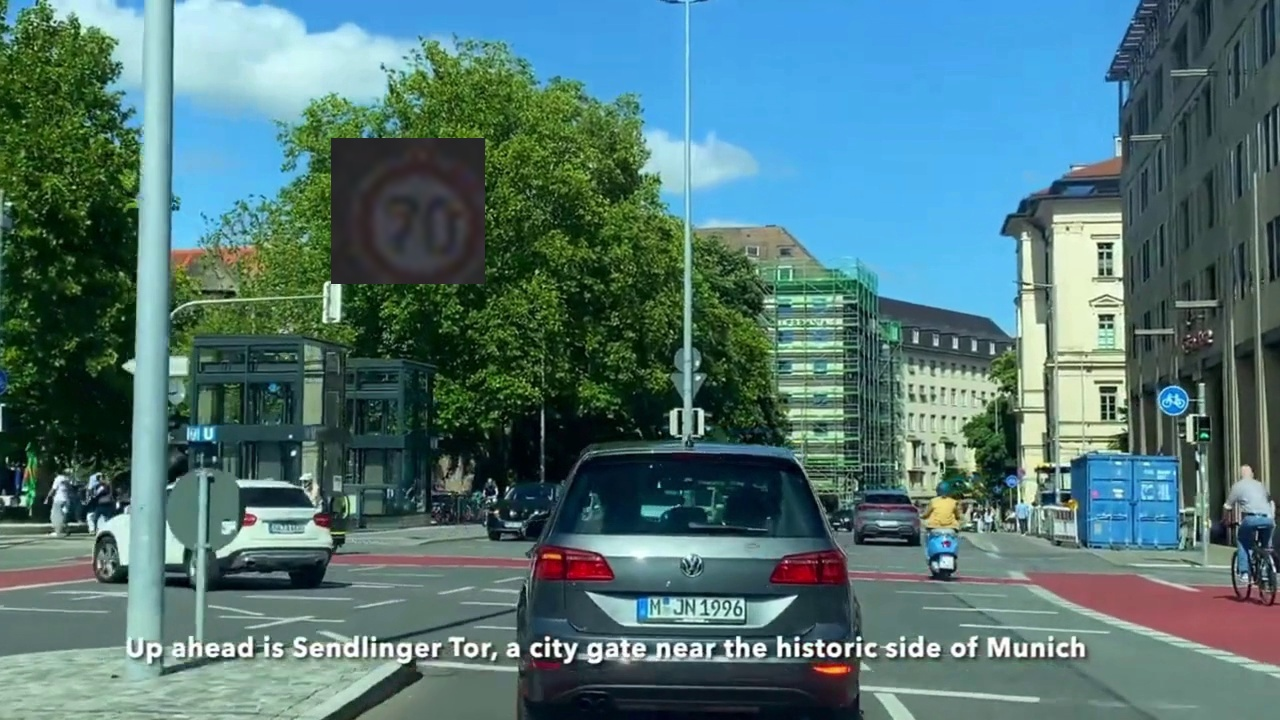Speed 70: (331, 138, 485, 284)
